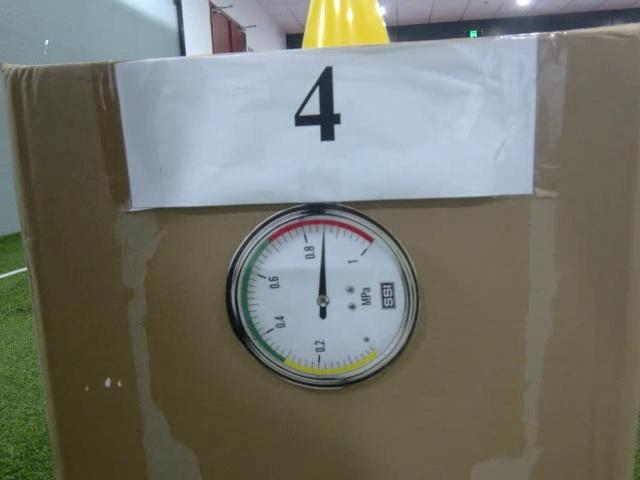4: (288, 64, 350, 146)
Dashboard: (222, 202, 424, 391)
ssi: (379, 284, 397, 311)
yellow_barrel: (295, 0, 393, 50)
